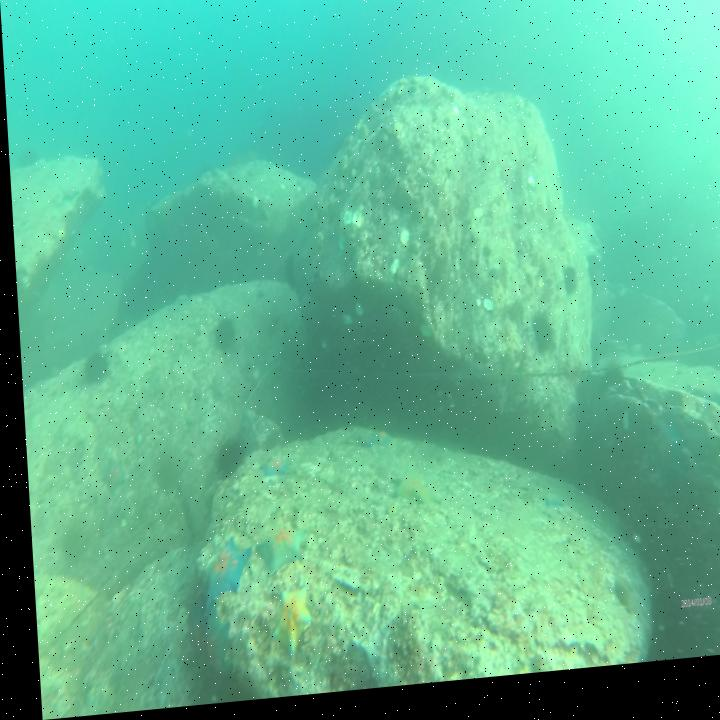echinus: (209, 439, 242, 482), (525, 318, 553, 368), (77, 349, 104, 388), (207, 320, 232, 360), (596, 370, 620, 403), (558, 273, 576, 308)
starfish: (193, 542, 249, 617), (262, 591, 310, 662), (253, 523, 302, 584), (255, 453, 291, 493)
